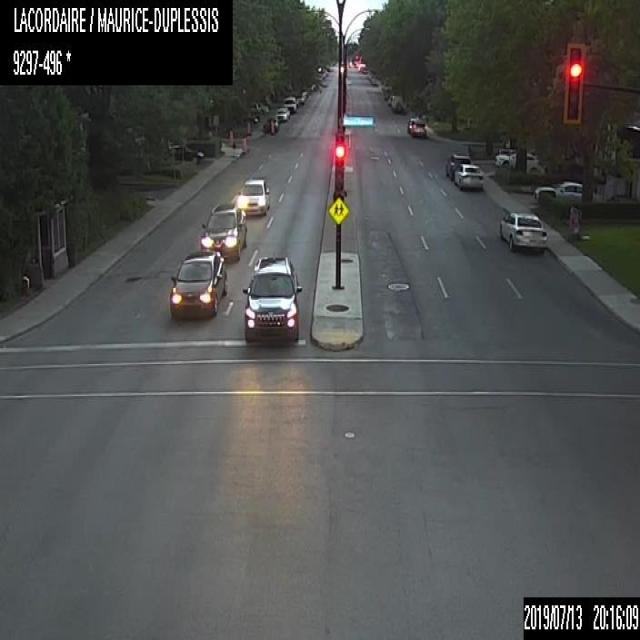construction: (242, 136, 248, 153), (228, 129, 233, 147), (270, 119, 274, 133)
vehicle: (242, 253, 302, 343), (169, 249, 226, 318), (199, 203, 245, 264), (498, 210, 547, 250), (534, 180, 598, 206), (234, 176, 269, 216), (496, 150, 542, 172), (166, 144, 203, 165), (454, 164, 484, 188), (444, 154, 474, 178), (412, 119, 426, 138), (275, 105, 289, 122), (282, 95, 296, 112), (407, 116, 420, 134), (264, 116, 278, 132), (390, 95, 402, 111)
